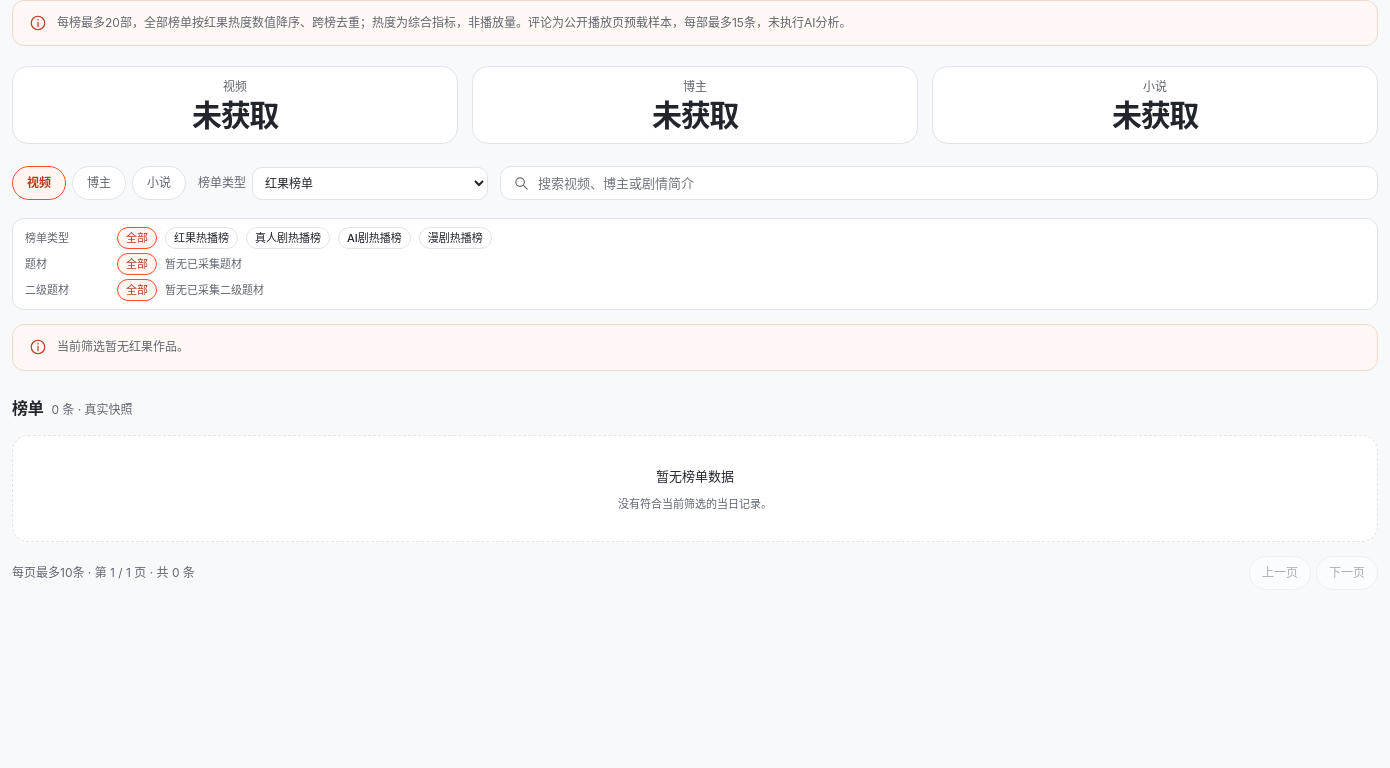
默认顺序批次明确说明相关性与时效性，不再因未知播放量挡住列表
The width and height of the screenshot is (1390, 768).
Select "已采集视频榜单" in the dropdown labelled "榜单类型" at (370, 183), box [252,167,488,200]
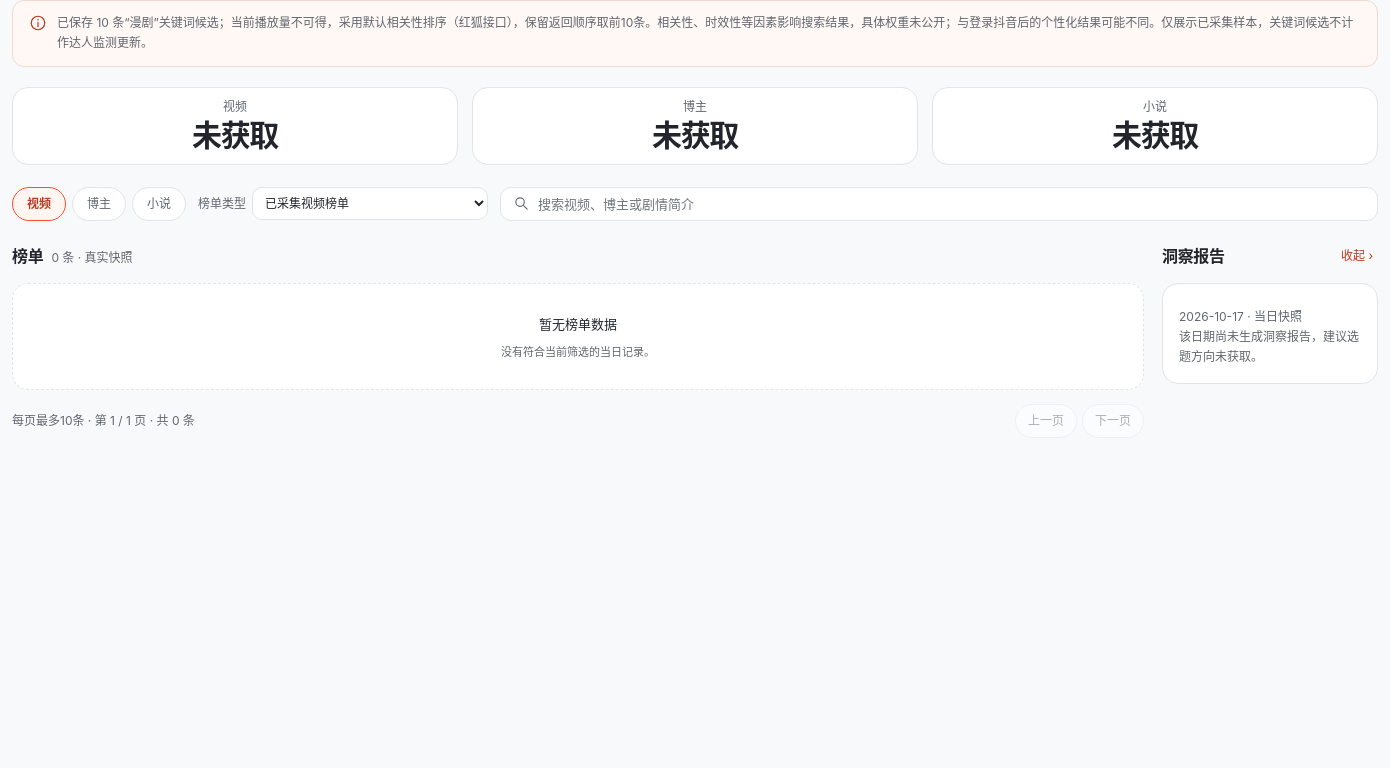
Expected: the text "相关性、时效性等因素" is shown, [231,15,1161,30]
